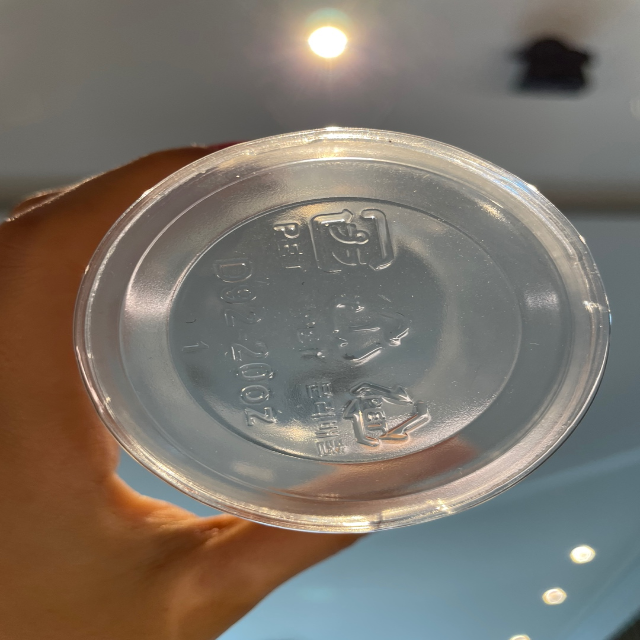pet: (299, 373, 440, 456), (269, 198, 403, 285), (283, 287, 420, 370)
